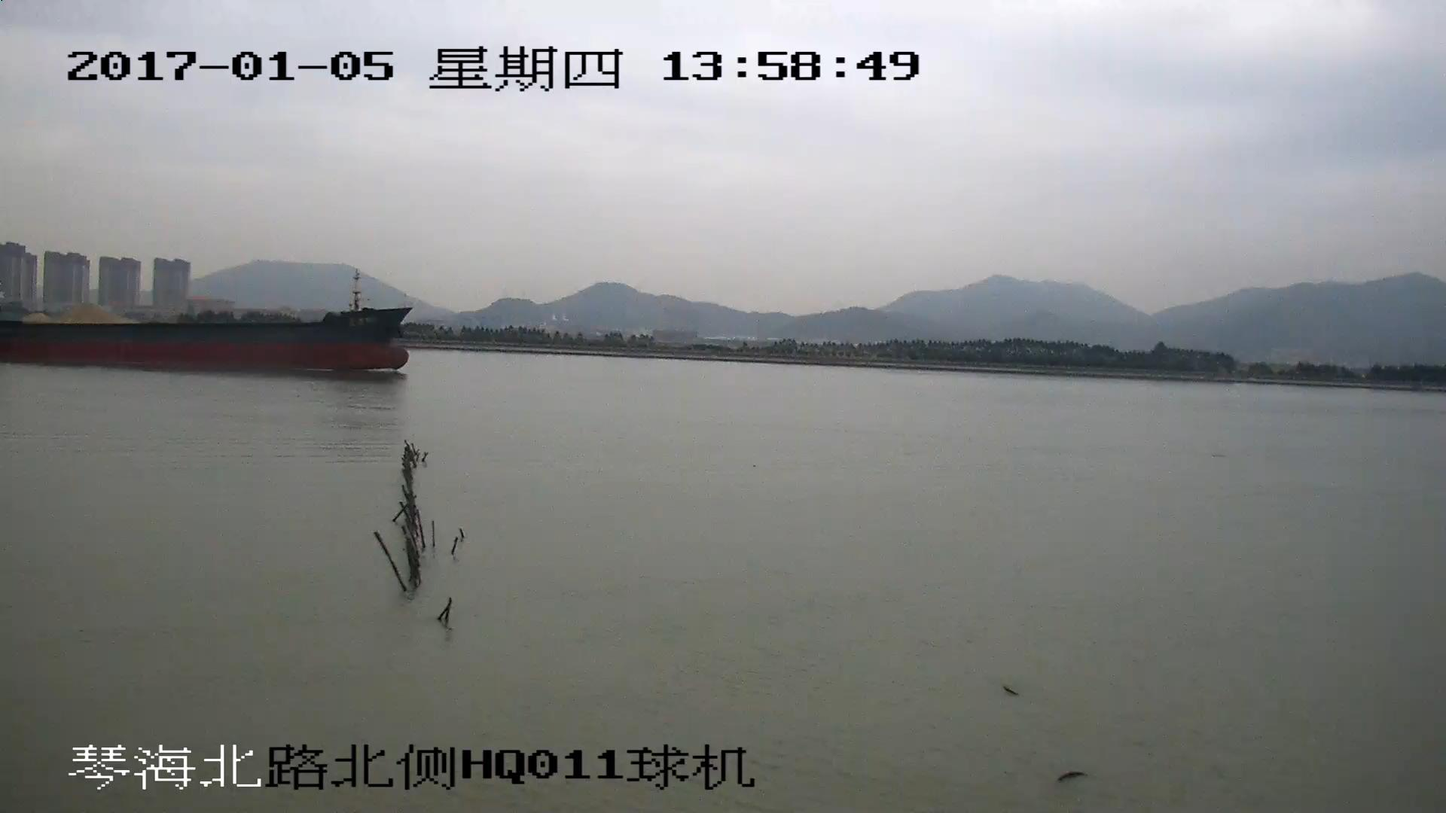general cargo ship: (0, 275, 416, 371)
